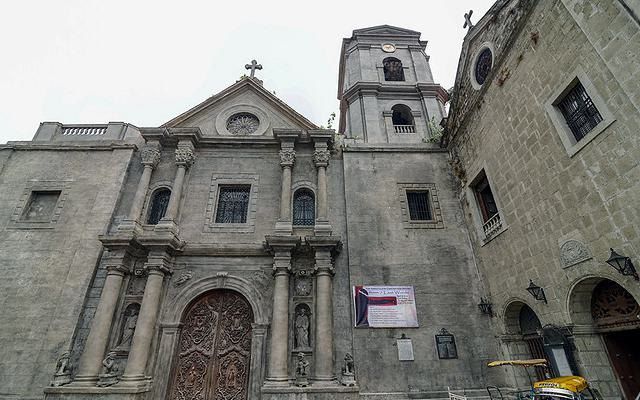Environmental Damage: (427, 118, 452, 147), (446, 160, 469, 191)
San Agustin Church: (93, 6, 501, 400)
